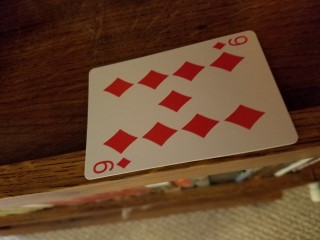NineOfDiamonds: (82, 30, 299, 180)
